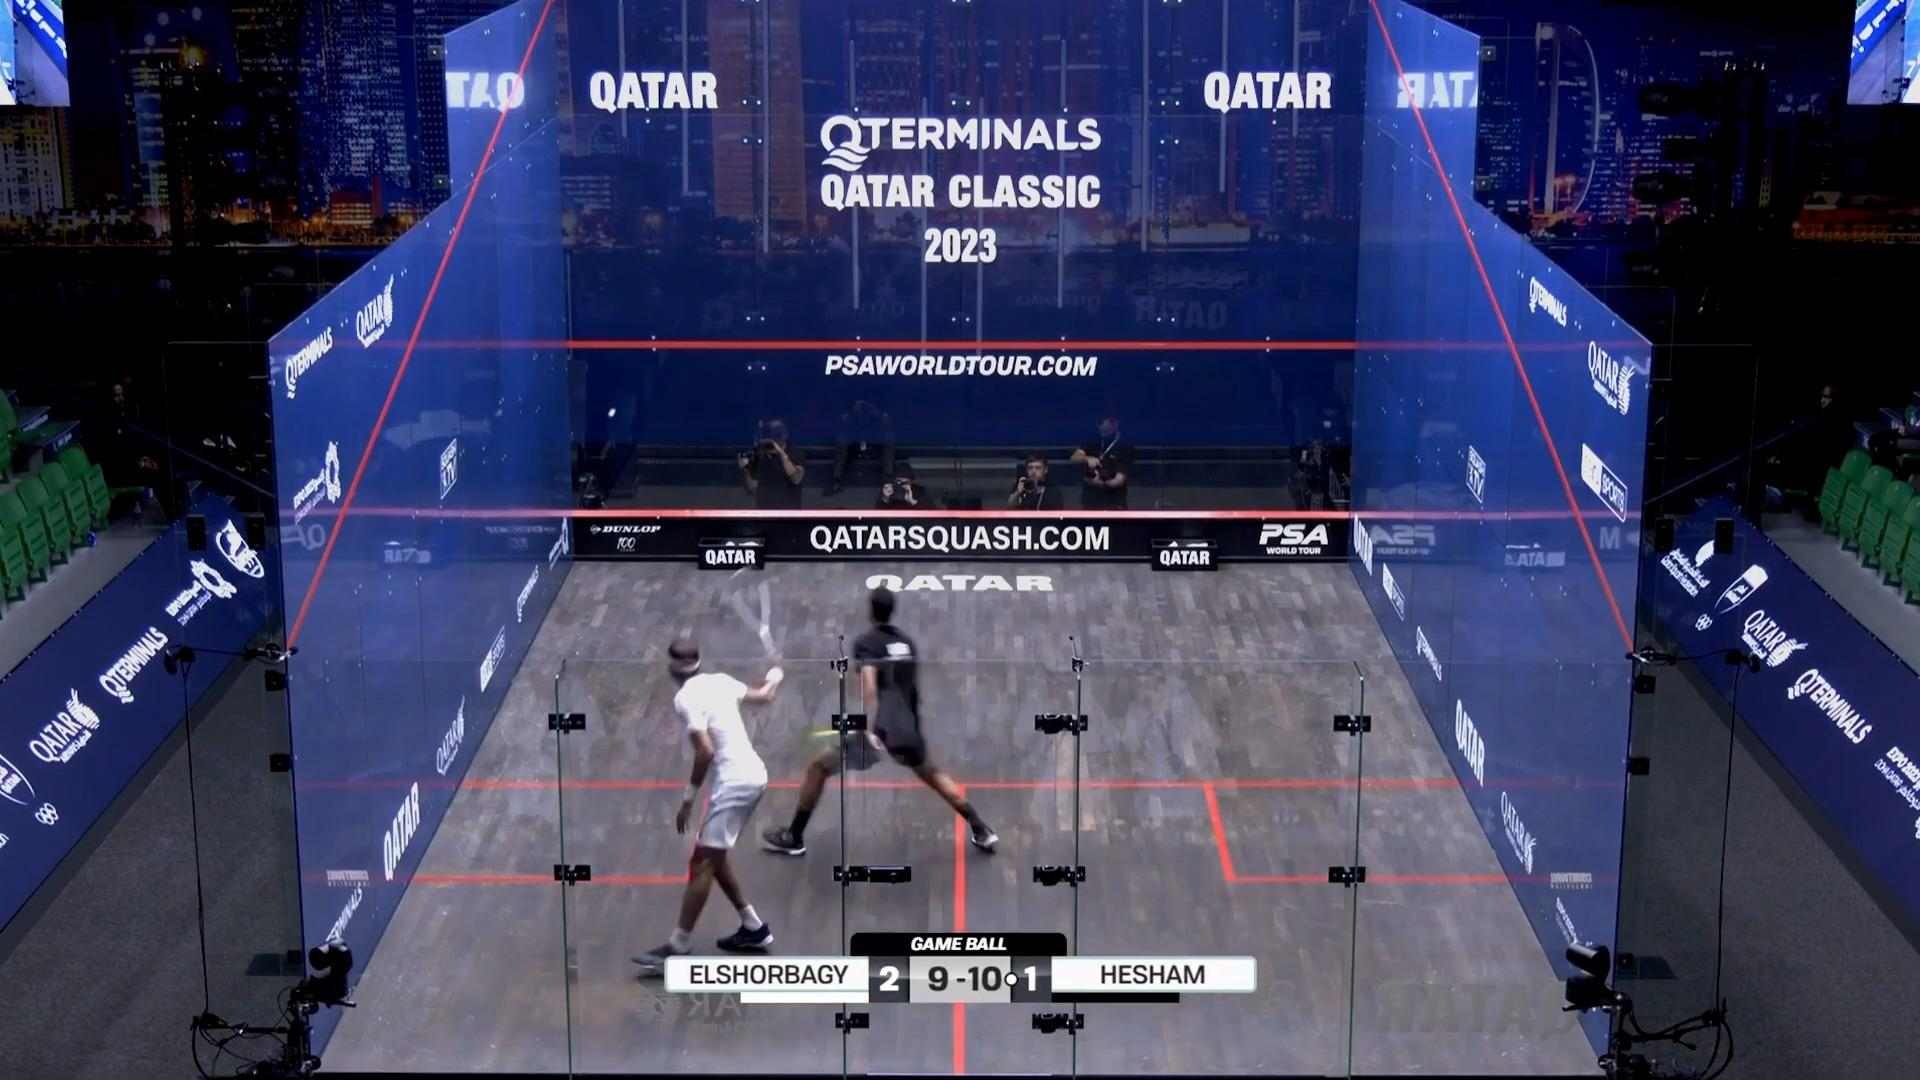Squash-Ball: (596, 396, 626, 430)
